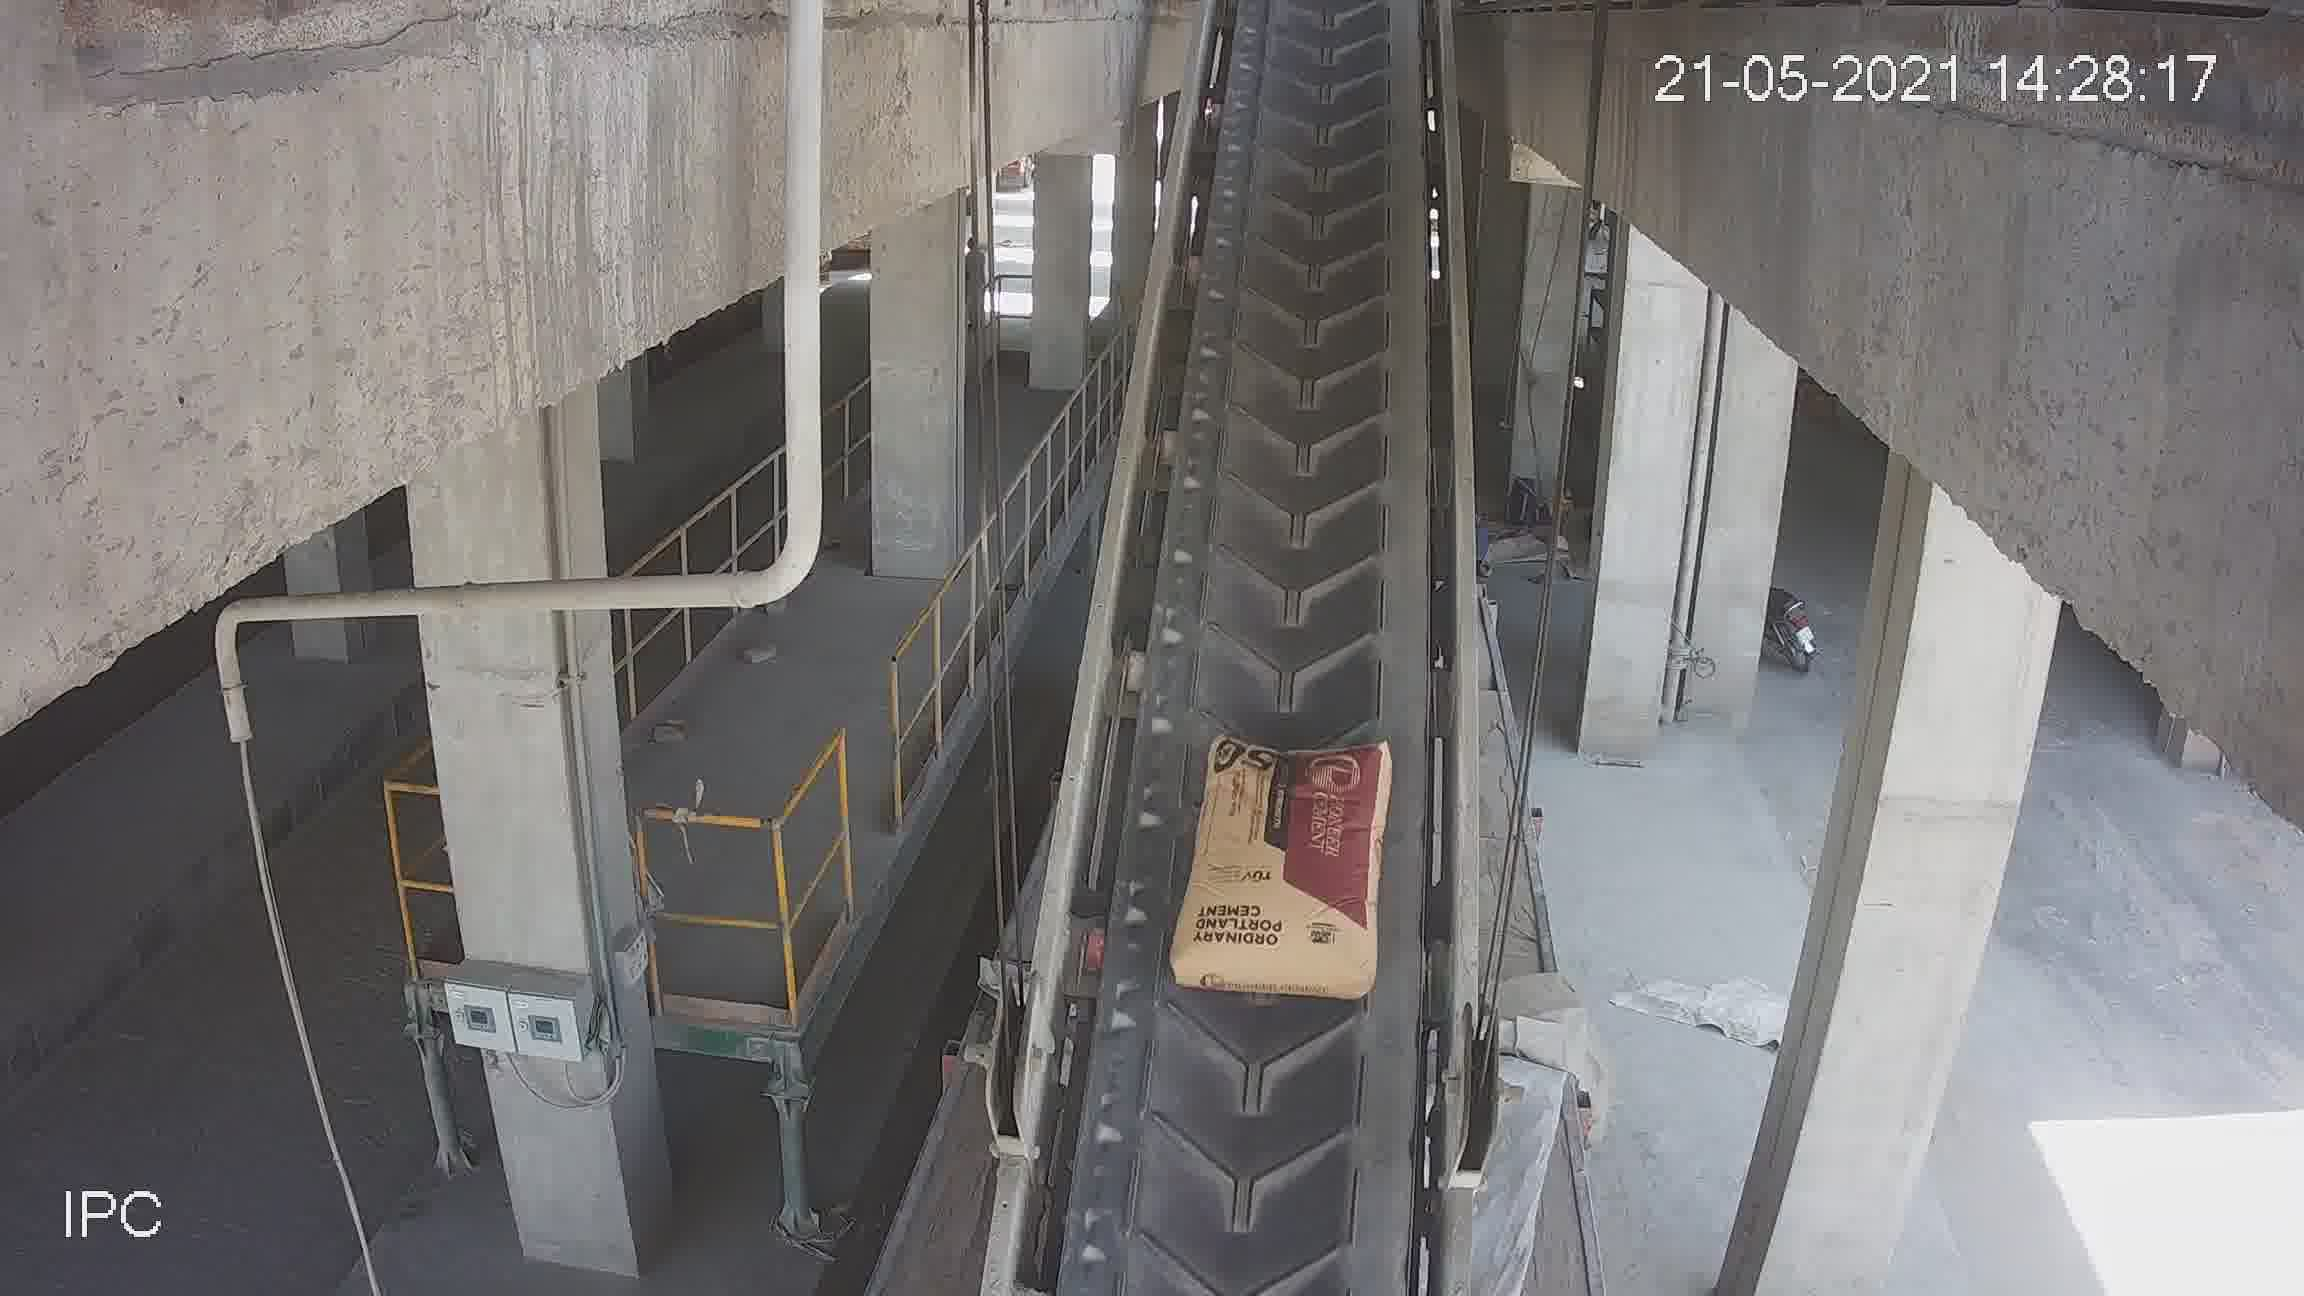bag: (1173, 734, 1385, 983)
belt: (1051, 27, 1484, 1260)
